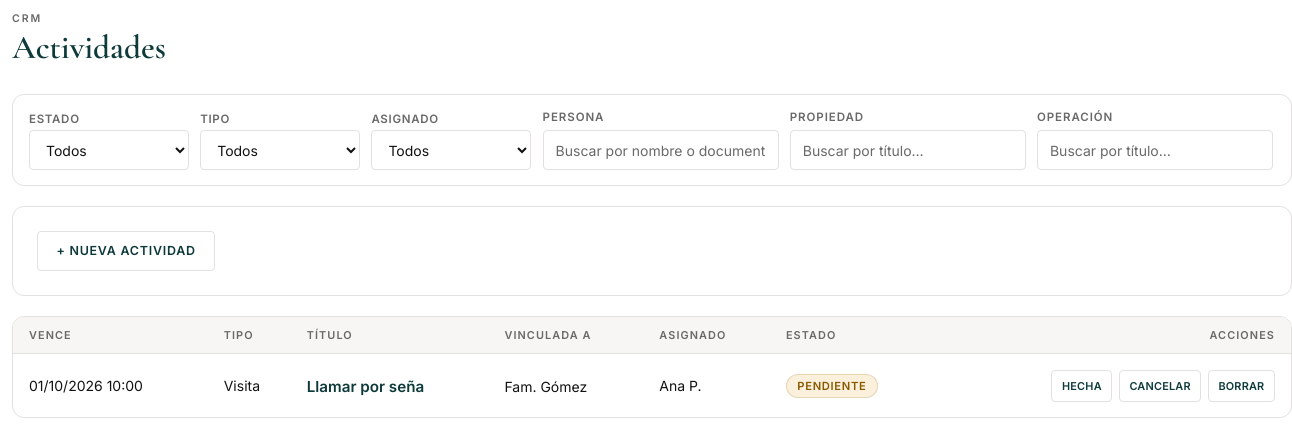
marcar hecha actualiza la fila sin recargar la lista
Click the button "Hecha" at (1082, 386), box [1051, 370, 1112, 402]
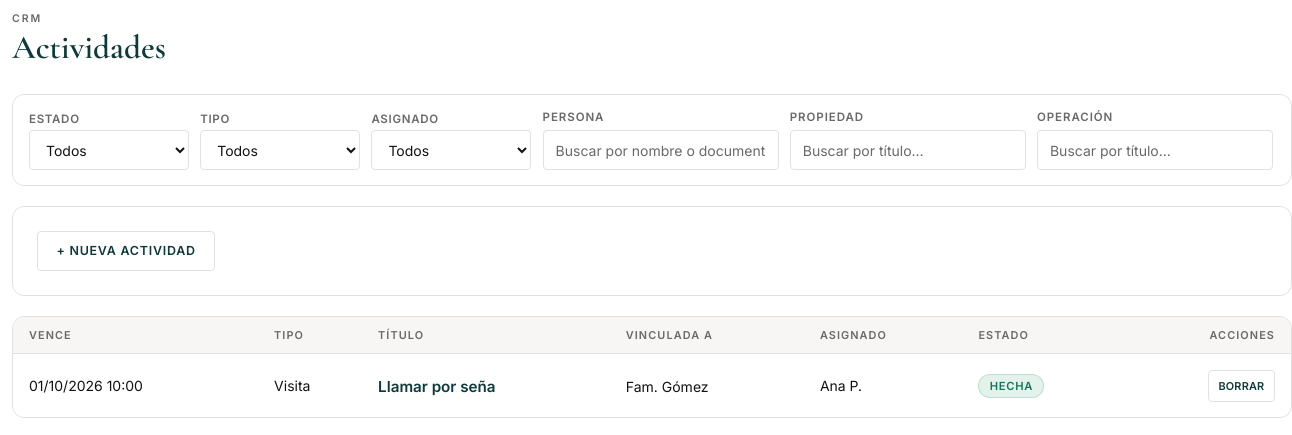
Now the text "Hecha" is shown, box [978, 374, 1044, 398]
